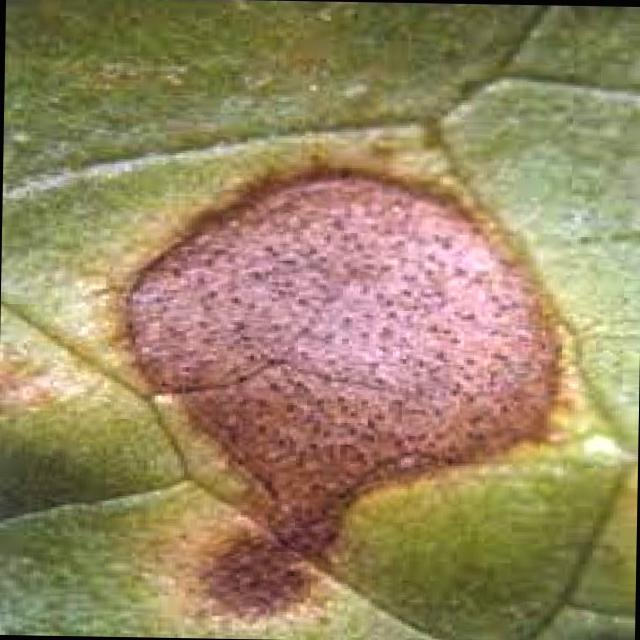Septoria_Blight: (89, 113, 596, 636)
